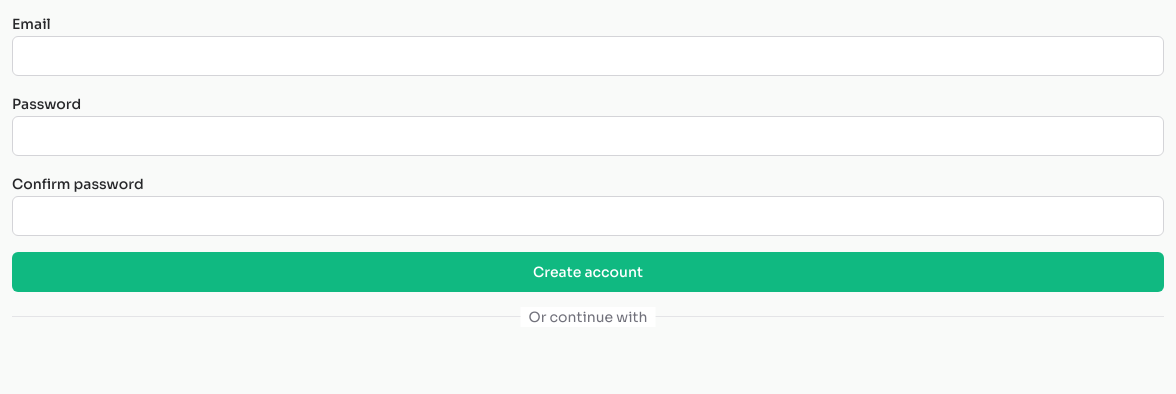
Test: RegisterForm › shows confirmation notice when email confirmation required
The image size is (1176, 394).
Type "user@example.com" into the field labelled "Email" at point(588, 56), box x1=12 y1=36 x2=1164 y2=76
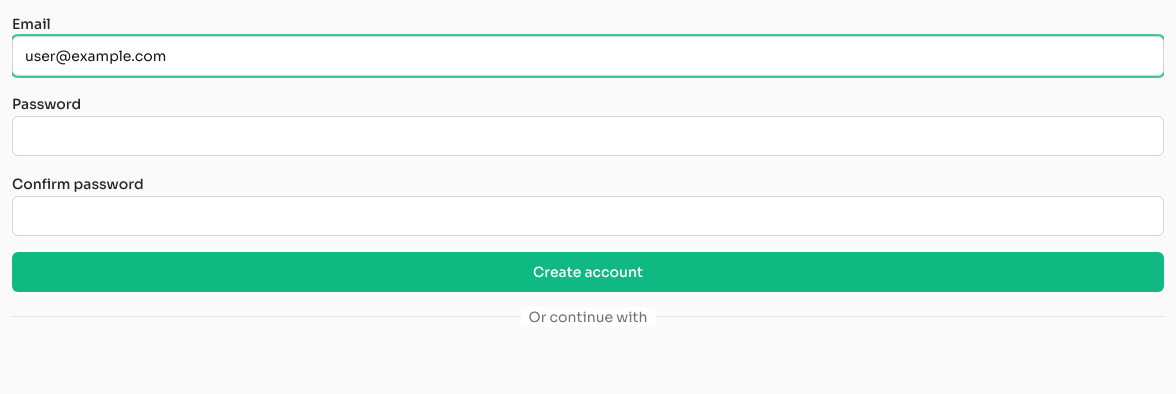
Type "password1" into the password field labelled "Password" at point(588, 136), box x1=12 y1=116 x2=1164 y2=156
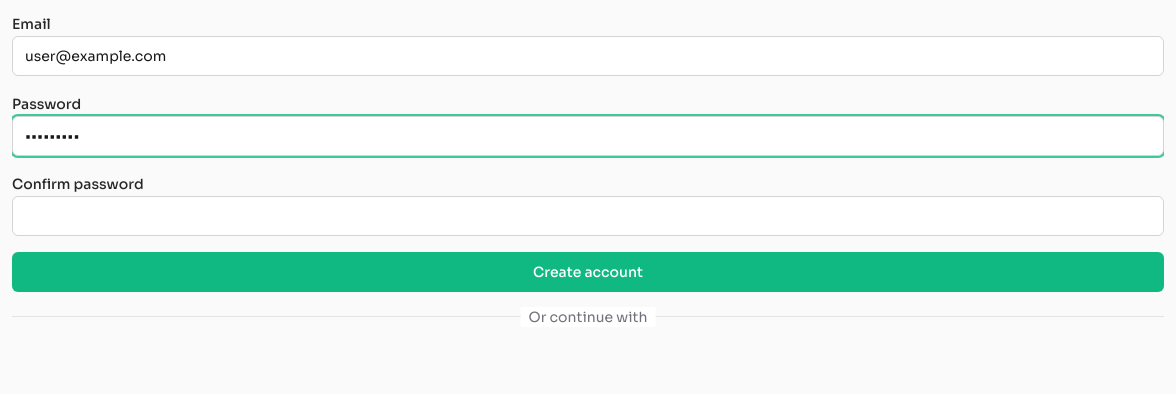
Type "password1" into the password field labelled "Confirm password" at point(588, 216), box x1=12 y1=196 x2=1164 y2=236
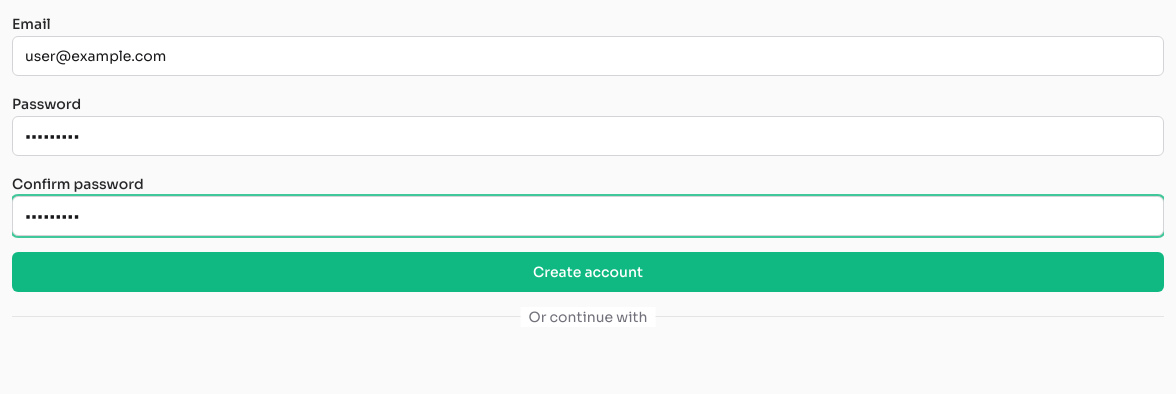
Click the button "Create account" at point(588, 272), box x1=12 y1=252 x2=1164 y2=292
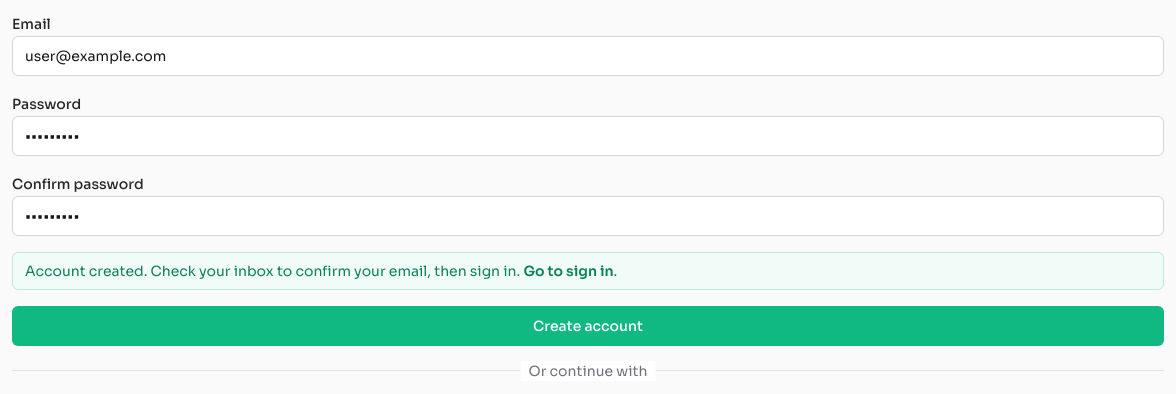
Now the text "Check your inbox to confirm your email" is shown, box x1=25 y1=262 x2=520 y2=280
Now the link "Go to sign in" is shown, box x1=523 y1=262 x2=614 y2=280
